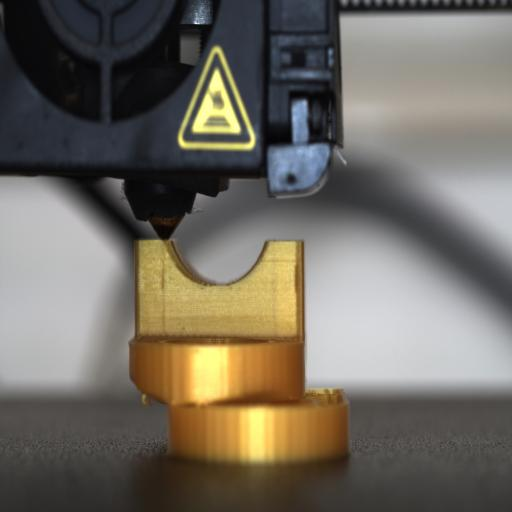layer_shift: (130, 380, 356, 415)
